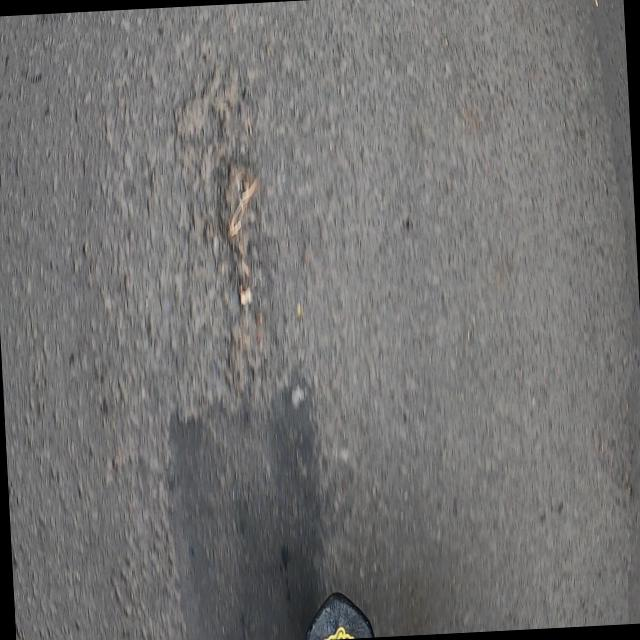Lubang: (221, 158, 259, 305)
